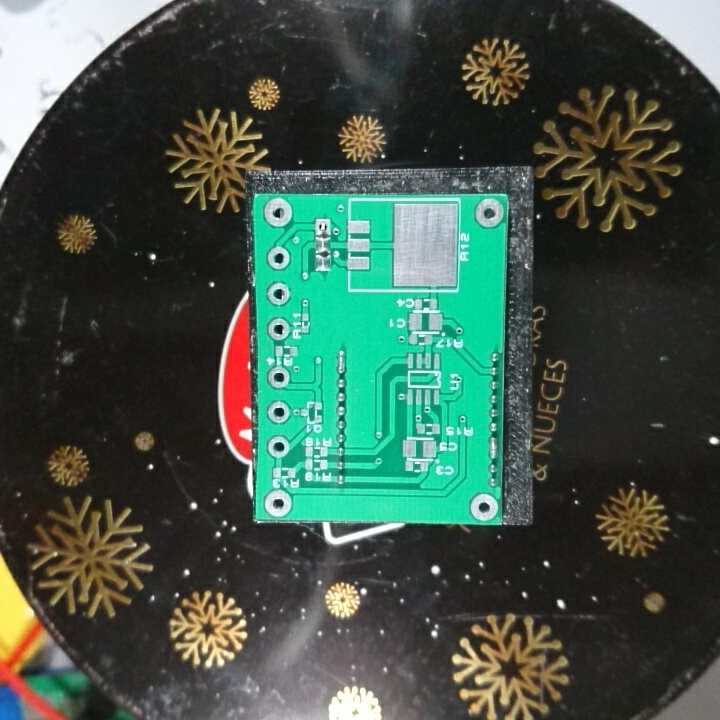F: (470, 195, 507, 232), (260, 196, 297, 231), (262, 486, 293, 518), (469, 492, 499, 523), (264, 278, 293, 308), (264, 243, 293, 272), (264, 314, 294, 340), (264, 398, 291, 426), (266, 432, 292, 461), (265, 363, 292, 389), (314, 215, 333, 240)
P: (335, 345, 351, 378), (486, 434, 501, 460)
